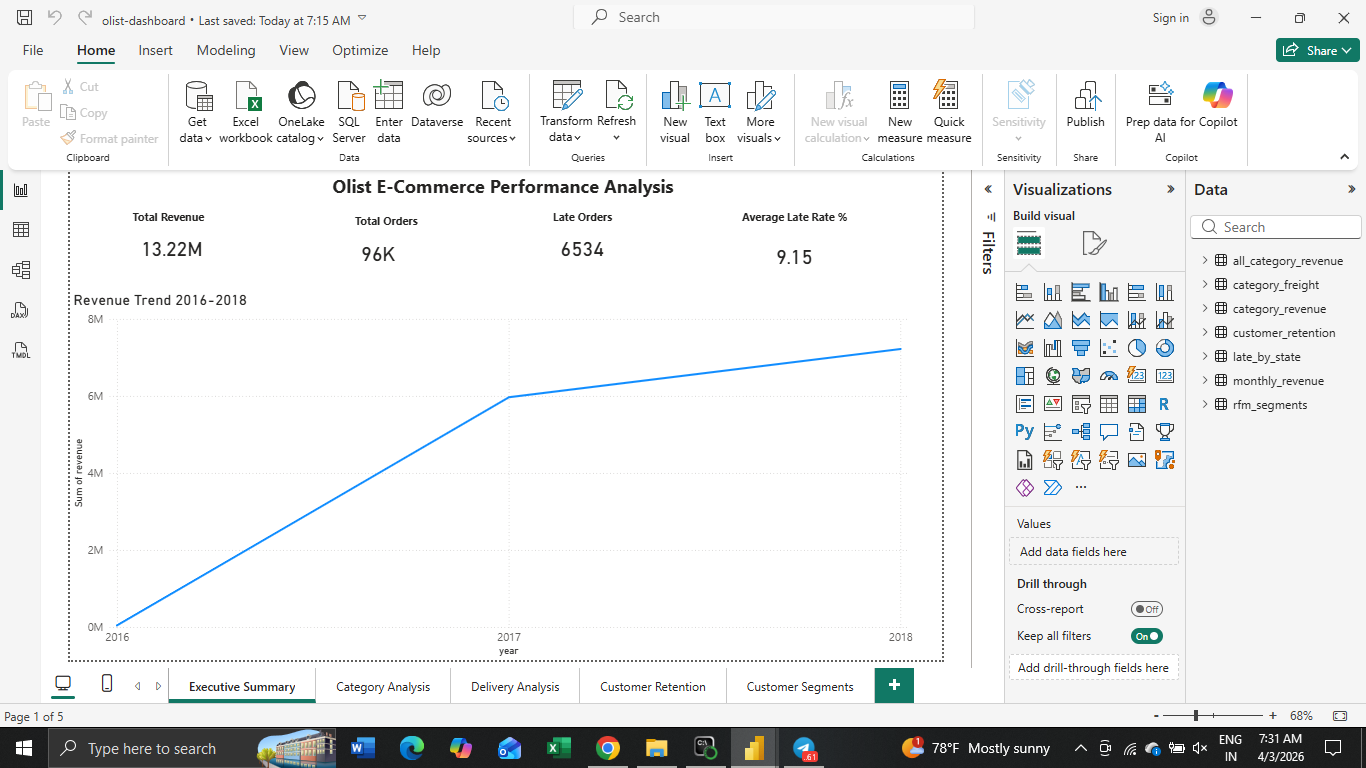

The page's visual inventory and layout, read from the dashboard file:
{"tool":"powerbi","page":{"name":"Executive Summary","canvas":[1280,720],"ordinal":0},"visuals":[{"type":"card","fields":{"Values":["Sum(monthly_revenue.revenue)"]},"box":[11.7,35,275,158.3],"z":0},{"type":"card","fields":{"Values":["Sum(monthly_revenue.total_orders)"]},"box":[303.3,35,300,171.7],"z":1000},{"type":"card","fields":{"Values":["Sum(late_by_state.late_orders)"]},"box":[590,35,323.3,158.3],"z":2000},{"type":"card","fields":{"Values":["Avg(late_by_state.late_percentage)"]},"box":[886.7,56.7,356.7,136.7],"z":3000},{"type":"lineChart","title":"Revenue Trend 2016-2018","fields":{"Y":["Sum(monthly_revenue.revenue)"],"Category":["monthly_revenue.year","monthly_revenue.month"]},"box":[0,178.3,1243.3,541.7],"z":4000},{"type":"textbox","box":[0,0,1280,56.7],"z":5000},{"type":"textbox","box":[86.7,53.3,126.7,41.7],"z":6000},{"type":"textbox","box":[363.3,58.3,203.3,40],"z":7000},{"type":"textbox","box":[640,53.3,225,45],"z":8000},{"type":"textbox","box":[933.3,53.3,263.3,55],"z":9000}]}

Visuals, with their boxes on the page's 1280x720 design canvas (x1, y1, x2, y2). These are canvas units, not pixel positions in the 1366x768 screenshot, which may show the page scaled, cropped or inside an application window:
card - Sum(monthly_revenue.revenue): bbox=(12, 35, 287, 193)
card - Sum(monthly_revenue.total_orders): bbox=(303, 35, 603, 207)
card - Sum(late_by_state.late_orders): bbox=(590, 35, 913, 193)
card - Avg(late_by_state.late_percentage): bbox=(887, 57, 1243, 193)
"Revenue Trend 2016-2018" lineChart: bbox=(0, 178, 1243, 720)
textbox: bbox=(0, 0, 1280, 57)
textbox: bbox=(87, 53, 213, 95)
textbox: bbox=(363, 58, 567, 98)
textbox: bbox=(640, 53, 865, 98)
textbox: bbox=(933, 53, 1197, 108)
